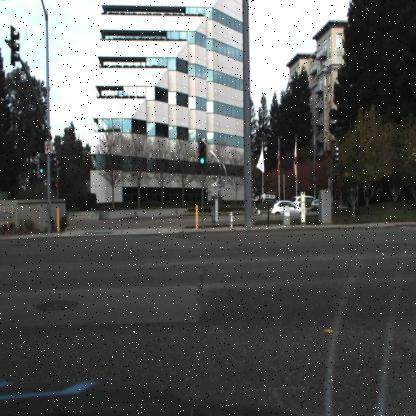car: (291, 193, 319, 216), (271, 197, 302, 217)
trafficLight-Green: (194, 136, 210, 184), (33, 155, 47, 187), (198, 140, 208, 167), (37, 158, 45, 178)
